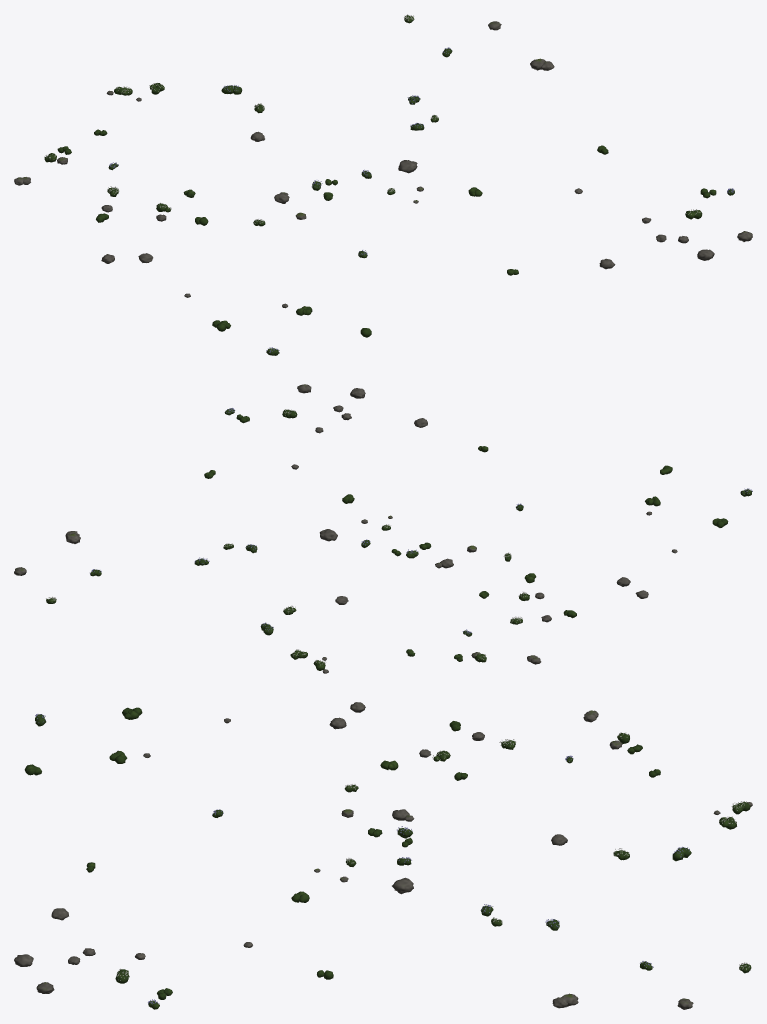
Rendered from nature.glb.
The picture shows the model from 3 angles, top to bottom: view 1: azimuth 30°, elevation 25°; view 2: azimuth 150°, elevation 25°; view 3: azimuth 270°, elevation 25°; orthographic projection. The views are drawn at different scales.
Visible parts, largest first — view 1: nature; view 2: nature; view 3: nature.
Part boxes in pixels (x1,y1,x2,y2): nature: (14, 14, 752, 355); nature: (14, 384, 752, 673); nature: (14, 702, 752, 1009).
Bounding box in the file's own units: 61.27 × 1.36 × 62.69.
